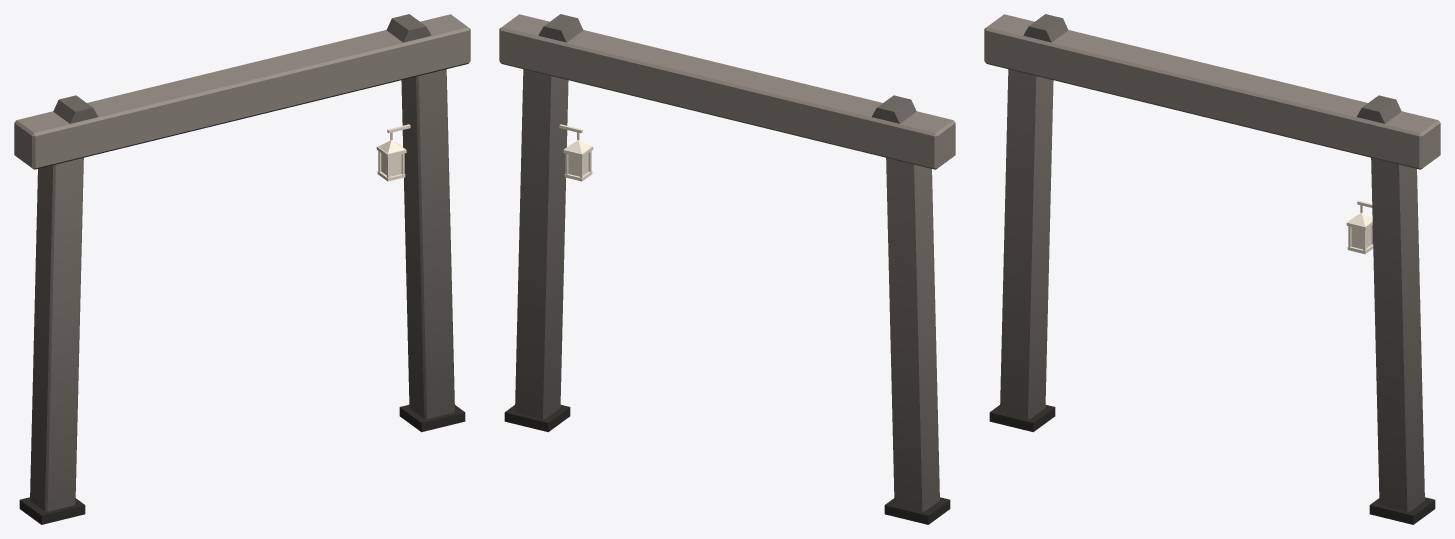
Rendered from SM_VKI_Prop_Mine_Set_Lamp.fbx.
3 renders of one model, left to right at view 1: azimuth 30°, elevation 25°; view 2: azimuth 150°, elevation 25°; view 3: azimuth 330°, elevation 25°, orthographic.
Visible parts, largest first — view 1: SM_VKI_Prop_Mine_Set_Lamp.001; view 2: SM_VKI_Prop_Mine_Set_Lamp.001; view 3: SM_VKI_Prop_Mine_Set_Lamp.001.
Part boxes in pixels (x1,y1,x2,y2): SM_VKI_Prop_Mine_Set_Lamp.001: (14, 14, 470, 524); SM_VKI_Prop_Mine_Set_Lamp.001: (499, 14, 955, 524); SM_VKI_Prop_Mine_Set_Lamp.001: (984, 14, 1440, 524).
Bounding box in the file's own units: 3 × 2.64 × 0.26.
